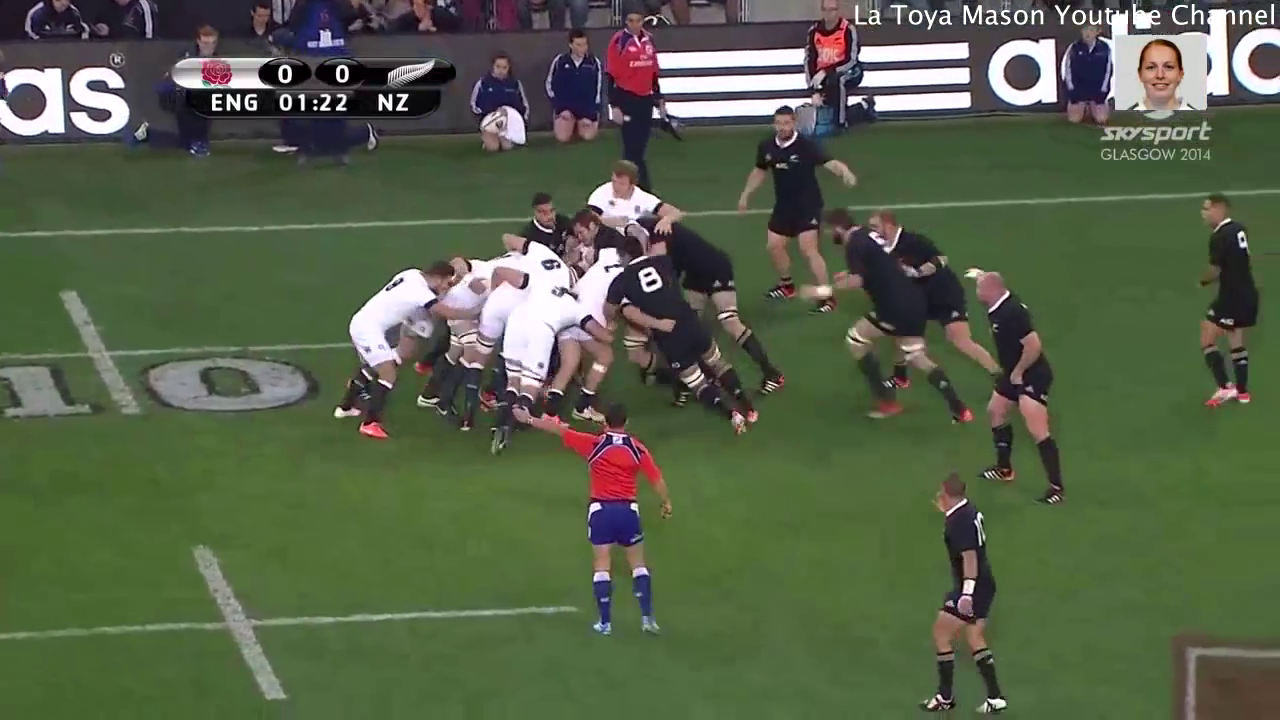10_metre: (1, 538, 578, 715), (1, 276, 384, 432)
maul: (362, 169, 773, 476)
player: (508, 397, 691, 645), (815, 209, 973, 440), (905, 474, 1022, 720), (972, 268, 1084, 517), (618, 246, 757, 430), (739, 102, 844, 322), (645, 222, 785, 384), (1183, 187, 1272, 417), (331, 260, 446, 438), (874, 210, 999, 369), (585, 164, 673, 219)
